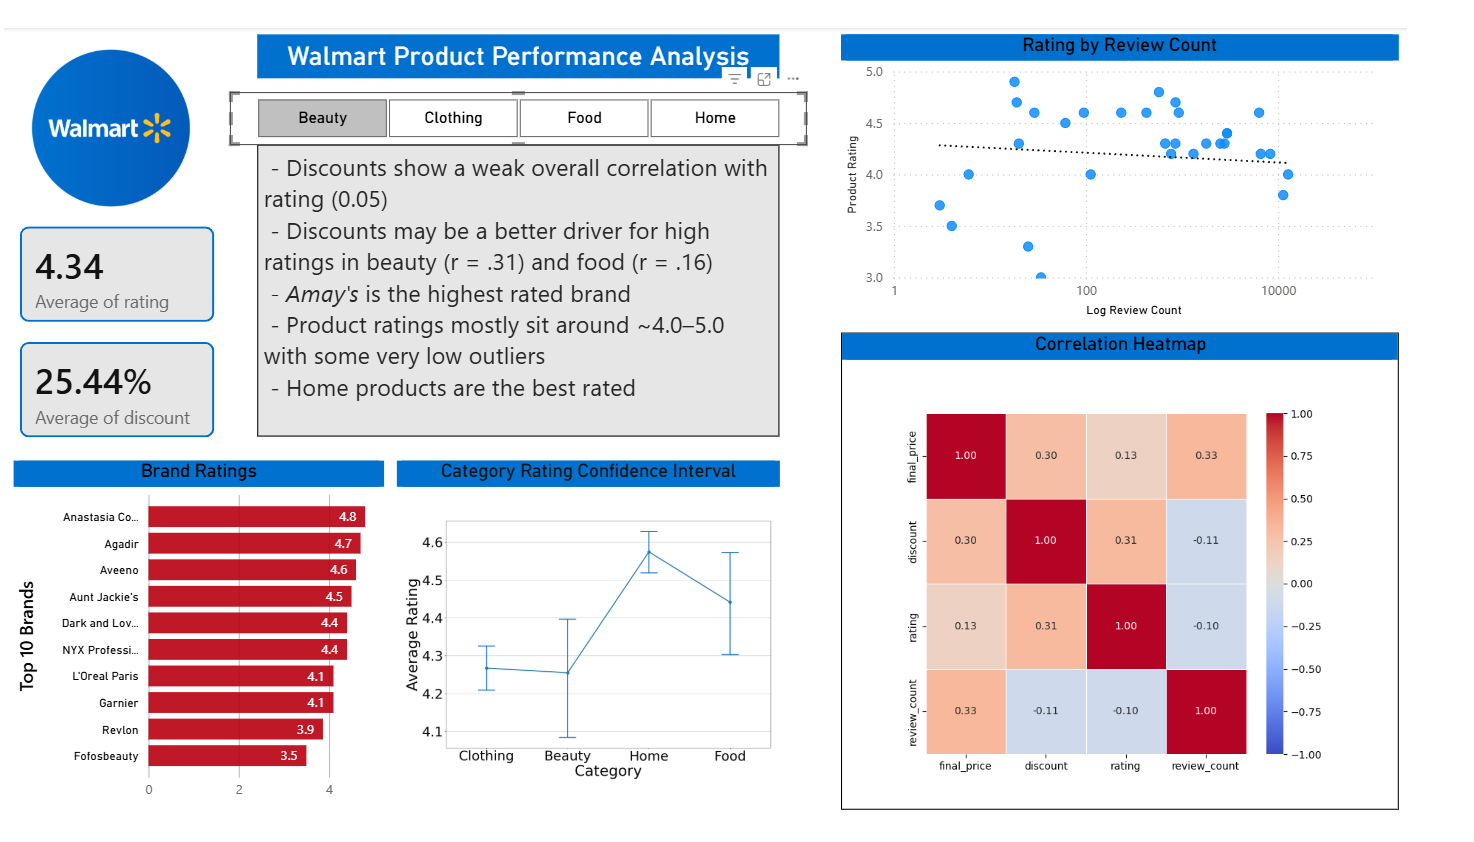

What the dashboard file says about the page in this screenshot:
{"tool":"powerbi","page":{"name":"Page 1","canvas":[1280,720],"ordinal":0},"visuals":[{"type":"scatterChart","title":"Rating by Review Count","fields":{"Y":["walmart_powerbi_ready.rating"],"X":["walmart_powerbi_ready.review_count"],"Category":["walmart_powerbi_ready.product_id"]},"box":[764.4,6.7,507.4,261.8],"z":0},{"type":"clusteredBarChart","title":"Brand Ratings","fields":{"Category":["walmart_powerbi_ready.brand"],"Y":["walmart_powerbi_ready.rating"]},"box":[11.5,394.6,337.3,318.2],"z":1000},{"type":"pythonVisual","title":"Correlation Heatmap","fields":{"Values":["walmart_powerbi_ready.final_price","walmart_powerbi_ready.discount_percent","walmart_powerbi_ready.rating","walmart_powerbi_ready.review_count","walmart_powerbi_ready.product_id"]},"box":[764.5,278.2,507.3,434.3],"z":2000},{"type":"image","box":[20.4,19.3,160.2,146.2],"z":3000},{"type":"pythonVisual","title":"Category Rating Confidence Interval","fields":{"Values":["walmart_powerbi_ready.rating","walmart_powerbi_ready.root_category_name","walmart_powerbi_ready.product_id"]},"box":[360,394.4,348.9,325.6],"z":4000},{"type":"textbox","box":[233.3,6.7,475.6,40],"z":5000},{"type":"slicer","fields":{"Values":["walmart_powerbi_ready.root_category_name"]},"box":[208.3,58.8,524.3,47.8],"z":6000},{"type":"cardVisual","fields":{"Data":["walmart_powerbi_ready.rating"]},"box":[0,164.2,211.9,121.3],"z":7000,"group":"g1"},{"type":"textbox","box":[233,106.6,475.3,265.8],"z":7000},{"type":"cardVisual","fields":{"Data":["walmart_powerbi_ready.discount_percent"]},"box":[0,269.6,211.9,121.3],"z":8000,"group":"g1"},{"type":"group","id":"g1","title":"Group 1","box":[0,164.2,211.9,226.6],"z":8000}]}

Visuals, with their boxes in screenshot pixels (x1, y1, x2, y2), scaled from the page's 1280x720 canvas onto the 1474x842 screenshot:
"Rating by Review Count" scatterChart: left=880, top=8, right=1465, bottom=314
"Brand Ratings" clusteredBarChart: left=13, top=461, right=402, bottom=834
"Correlation Heatmap" pythonVisual: left=880, top=325, right=1465, bottom=833
image: left=23, top=23, right=208, bottom=194
"Category Rating Confidence Interval" pythonVisual: left=415, top=461, right=816, bottom=841
textbox: left=269, top=8, right=816, bottom=55
slicer - walmart_powerbi_ready.root_category_name: left=240, top=69, right=844, bottom=125
cardVisual - walmart_powerbi_ready.rating: left=0, top=192, right=244, bottom=334
textbox: left=268, top=125, right=816, bottom=436
cardVisual - walmart_powerbi_ready.discount_percent: left=0, top=315, right=244, bottom=457
"Group 1" group: left=0, top=192, right=244, bottom=457
